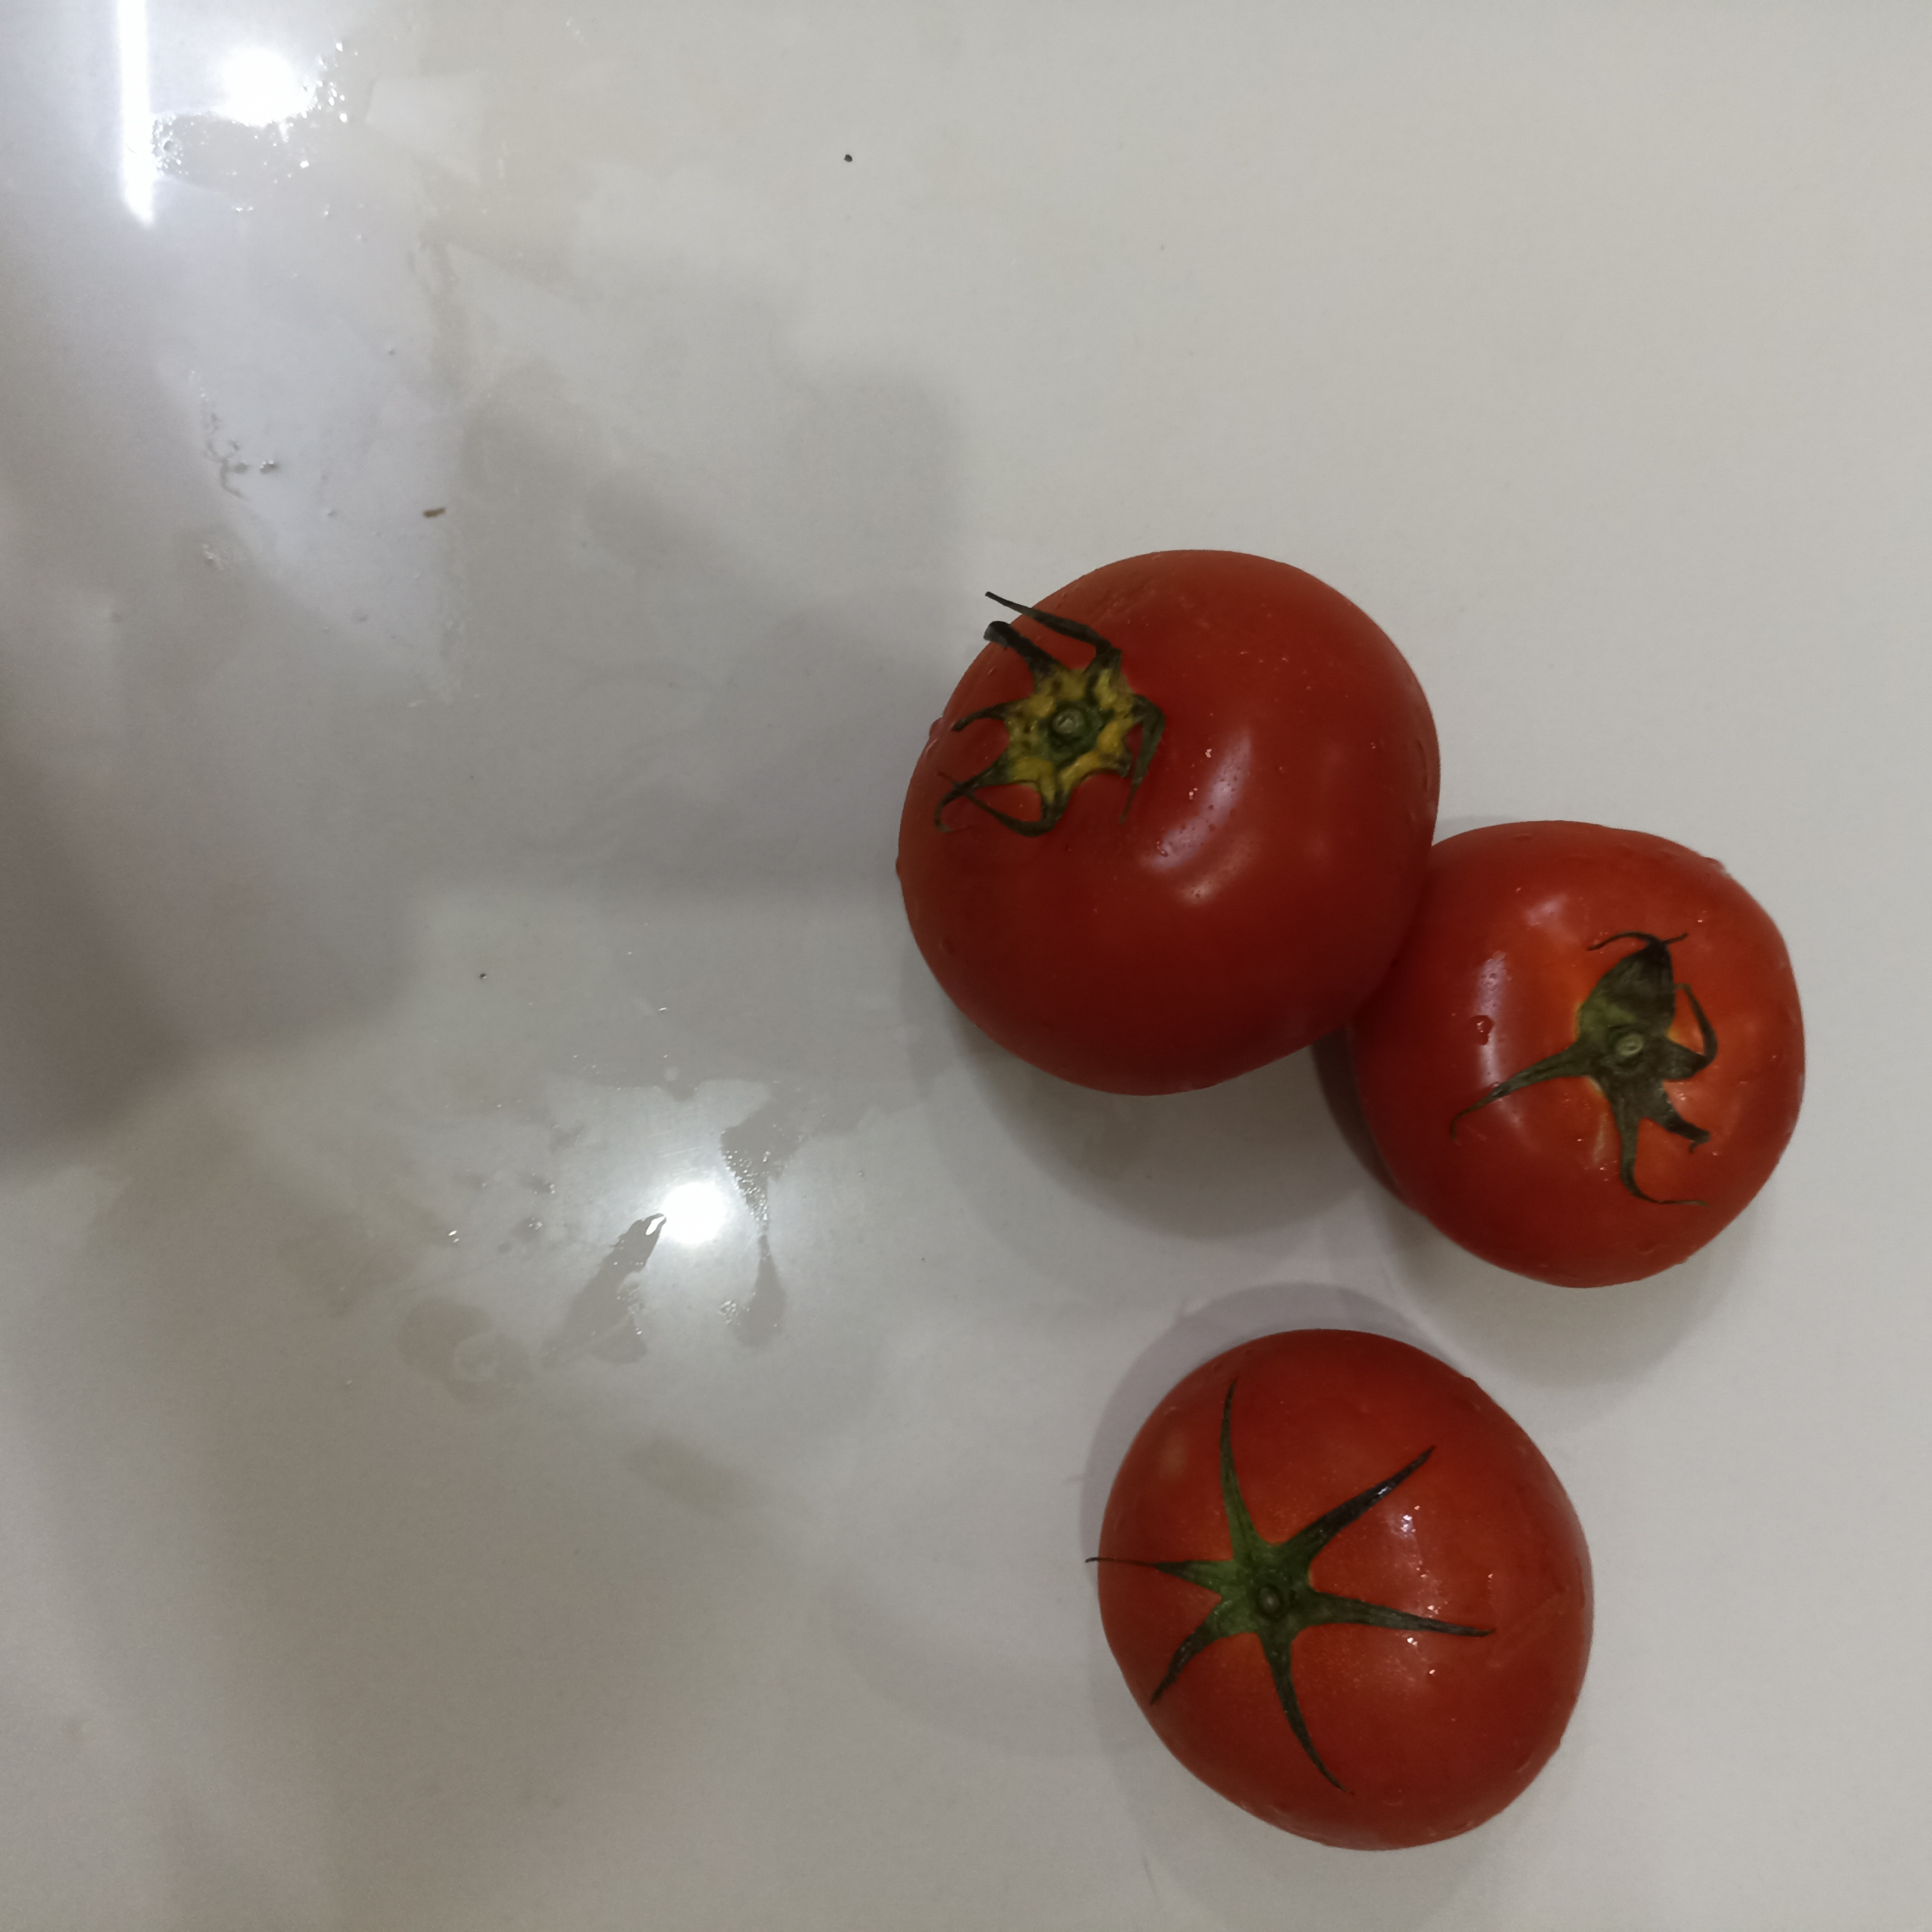Ca chua: (887, 555, 1442, 1091), (1092, 1326, 1593, 1852), (1353, 816, 1812, 1294)
